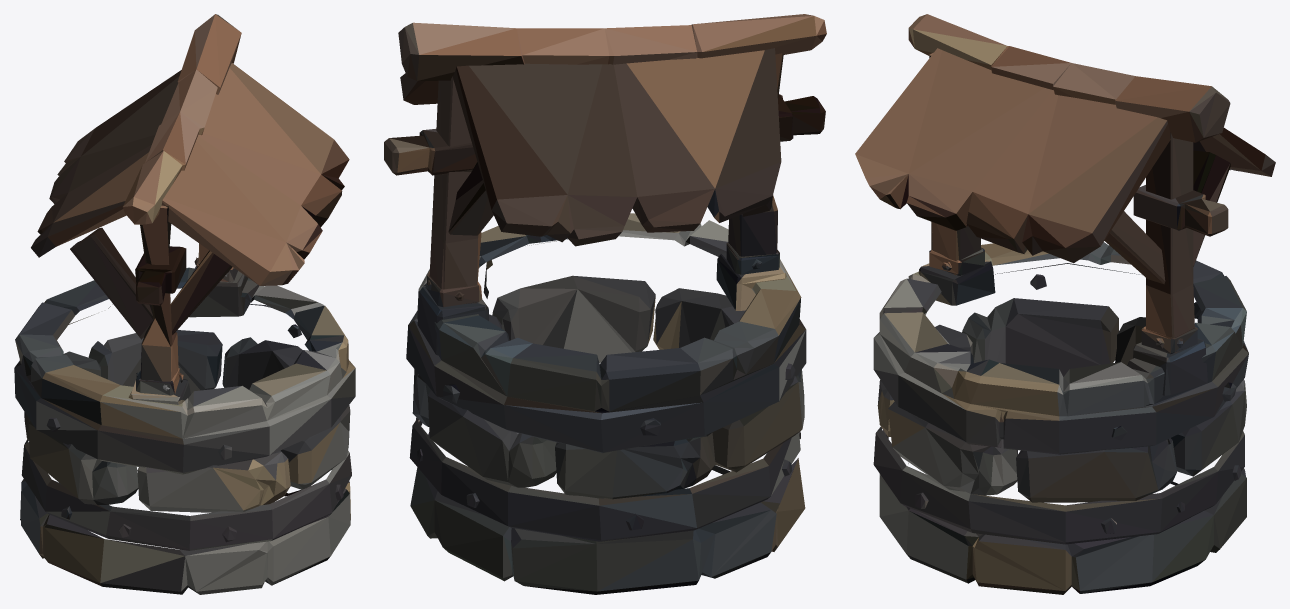
File: Well.glb
3 renders of one model, left to right at view 1: azimuth 30°, elevation 25°; view 2: azimuth 150°, elevation 25°; view 3: azimuth 270°, elevation 25°, orthographic. The views are drawn at different scales.
Parts seen in each view (by area): view 1: world; view 2: world; view 3: world.
Boxes of the visible parts, x1,y1,x2,y2 form: world: [14, 14, 355, 594]; world: [384, 14, 826, 594]; world: [855, 14, 1275, 594].
Size of the model in its own units: 0.377 by 0.5078 by 0.3984.
